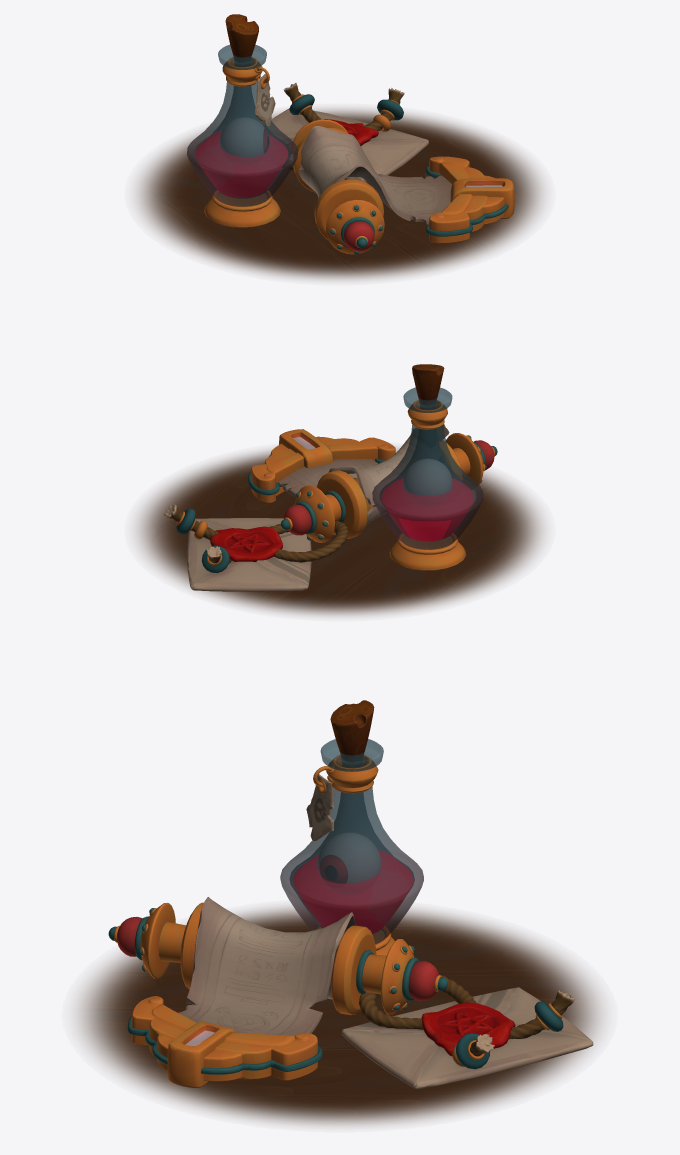
Rendered from alchemy_stuff.glb.
3 views of the same model, one above another, from view 1: azimuth 30°, elevation 25°; view 2: azimuth 150°, elevation 25°; view 3: azimuth 270°, elevation 25° (orthographic). The views are drawn at different scales.
Parts seen in each view (by area): view 1: pCube24, scroll_ao_3, bottle_ao1, envelope_ao1; view 2: pCube24, scroll_ao_3, bottle_ao1, envelope_ao1; view 3: pCube24, scroll_ao_3, bottle_ao1, envelope_ao1.
Part boxes in pixels (box(x1,y1,x2,y2)): pCube24: box(137, 109, 543, 279); scroll_ao_3: box(292, 119, 514, 254); bottle_ao1: box(187, 14, 298, 227); envelope_ao1: box(266, 83, 428, 183); pCube24: box(137, 448, 542, 615); scroll_ao_3: box(248, 429, 497, 542); bottle_ao1: box(372, 364, 483, 570); envelope_ao1: box(163, 504, 348, 591); pCube24: box(77, 906, 601, 1125); scroll_ao_3: box(108, 897, 447, 1087); bottle_ao1: box(280, 700, 423, 955); envelope_ao1: box(341, 974, 593, 1089).
Bounding box in the file's own units: 14.06 × 6.57 × 15.43.
Materials: 11 (9 with a texture image).
